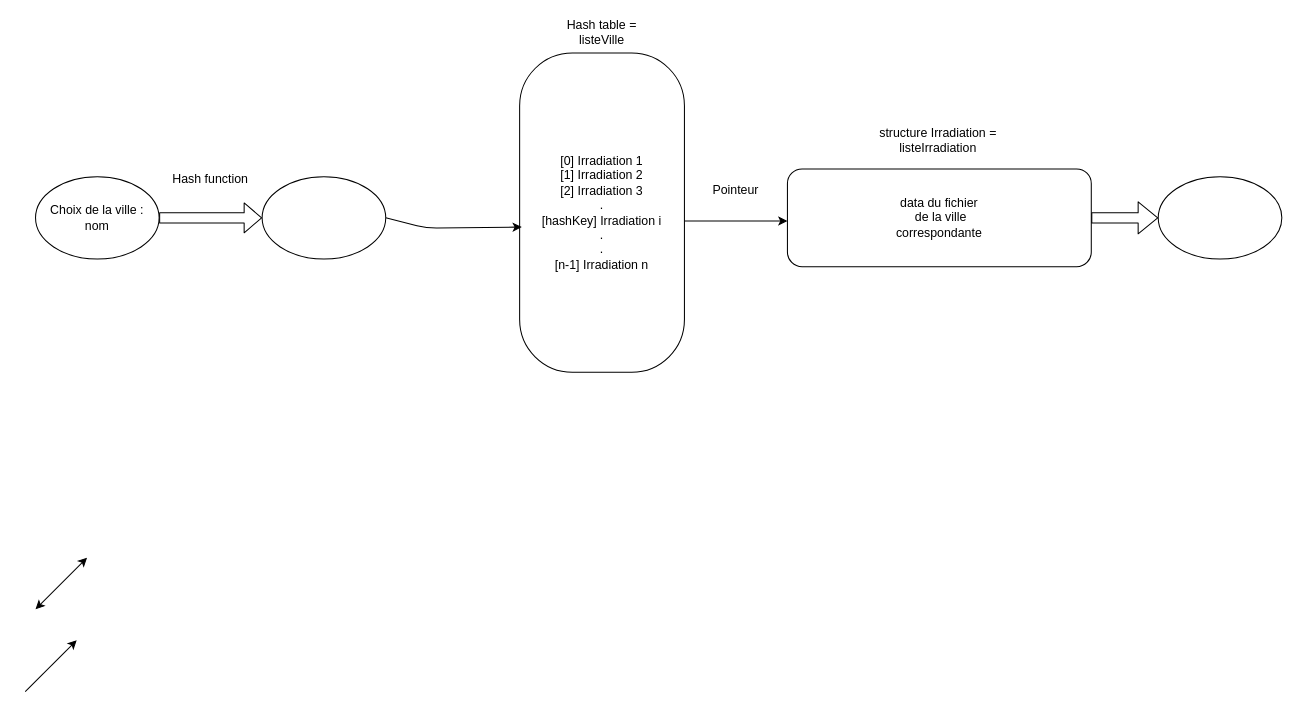
Some shapes in this 1300 by 718 pixel diagram are drawn without their labels. The box of each missing label's shape, as (x1, y1, x2, y2) in pixels:
hashKey: (261, 176, 386, 259)
Run program ....: (1157, 176, 1282, 259)
